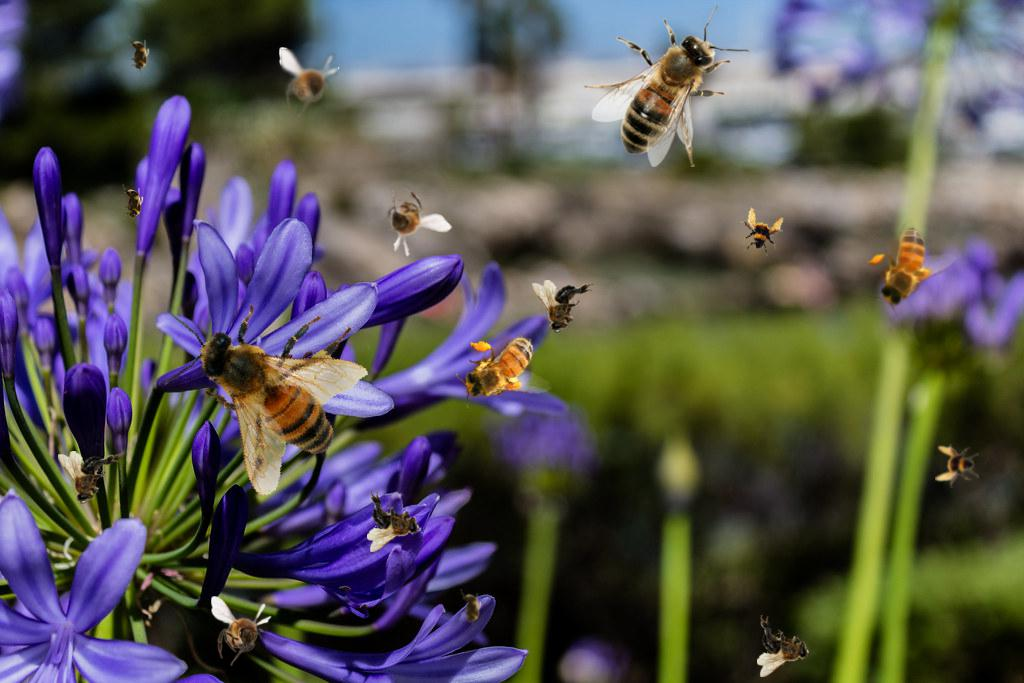Bee: (142, 260, 395, 516), (583, 5, 750, 167), (848, 210, 964, 323), (361, 174, 454, 268), (451, 328, 553, 409), (211, 596, 272, 666), (279, 47, 340, 117), (58, 451, 120, 504), (757, 615, 810, 677), (532, 280, 594, 333), (367, 490, 420, 552), (733, 205, 787, 259), (935, 444, 979, 488), (460, 589, 482, 629), (122, 184, 144, 224), (128, 36, 150, 76)
